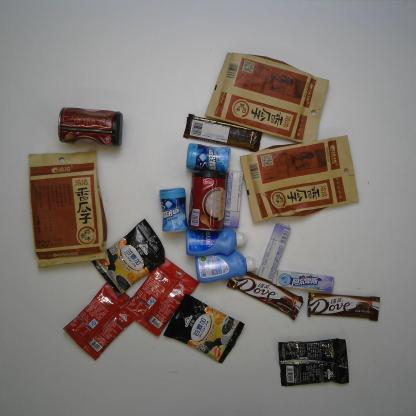Candy: (257, 221, 291, 282), (275, 269, 335, 294), (222, 170, 244, 229)
Canned Food: (56, 105, 123, 149), (188, 172, 229, 232)
Chocolate: (226, 271, 306, 321), (183, 112, 262, 152), (306, 290, 380, 322)
Dried Food: (204, 51, 330, 144), (239, 134, 360, 224), (27, 149, 108, 269)
Gum: (185, 141, 231, 174), (157, 186, 189, 233)
Instant Drink: (122, 258, 200, 338), (91, 218, 166, 297), (162, 293, 245, 364), (62, 282, 134, 361), (277, 337, 350, 387)
Personal Hygiene: (194, 249, 259, 284), (184, 228, 248, 258)
